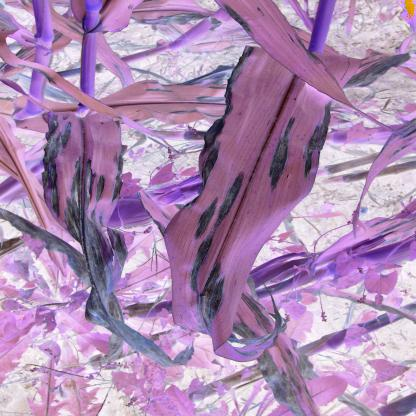Corn leaf blight: (69, 117, 416, 259), (47, 19, 416, 141), (4, 170, 173, 240), (388, 73, 416, 184)
